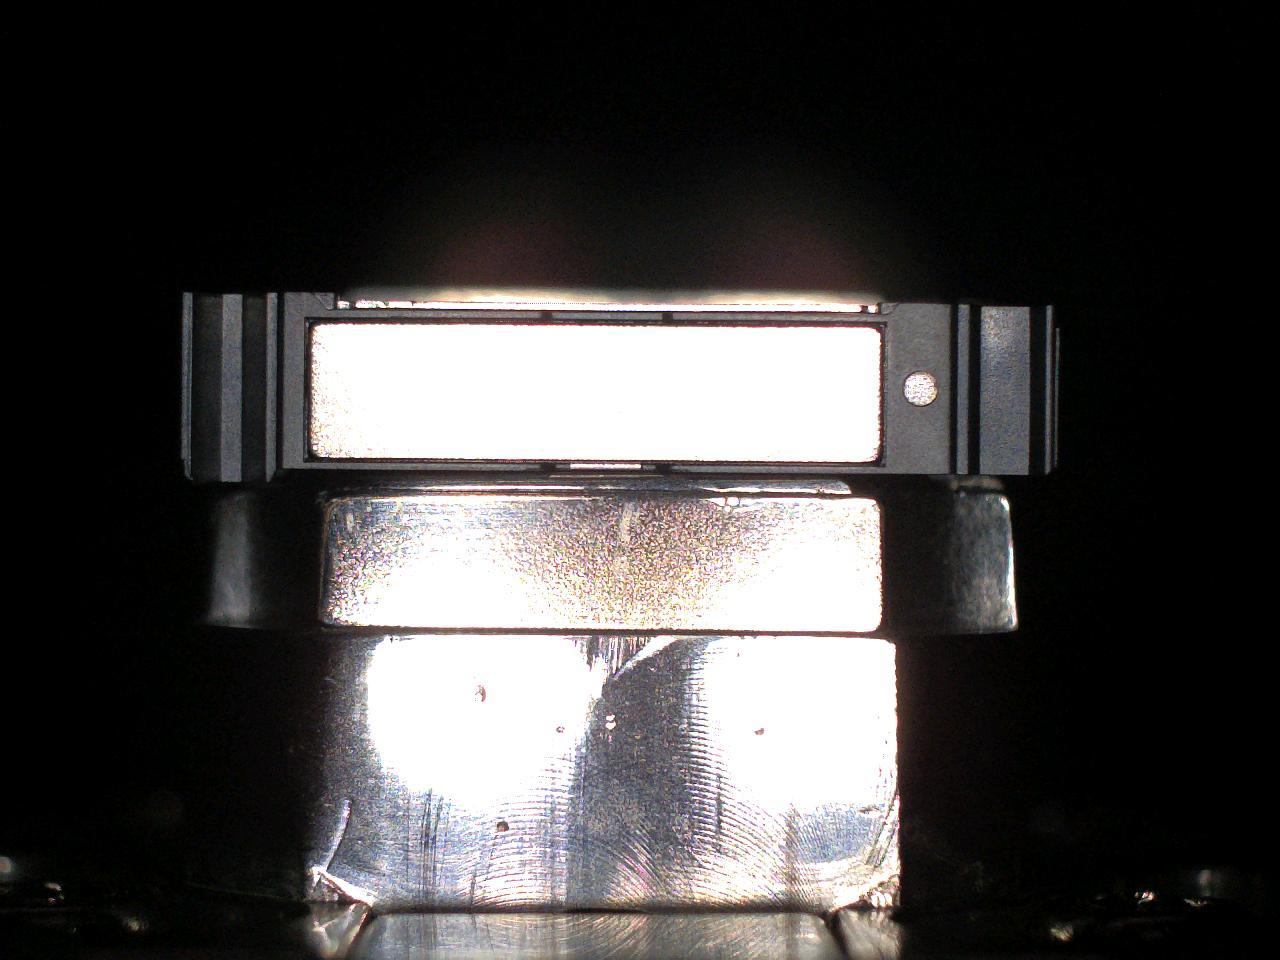frame: (182, 292, 1053, 483)
gap: (311, 317, 541, 326), (310, 457, 542, 465), (672, 460, 881, 468), (674, 321, 881, 328), (548, 319, 663, 326), (555, 459, 657, 465)
magnetic: (310, 325, 882, 461)
